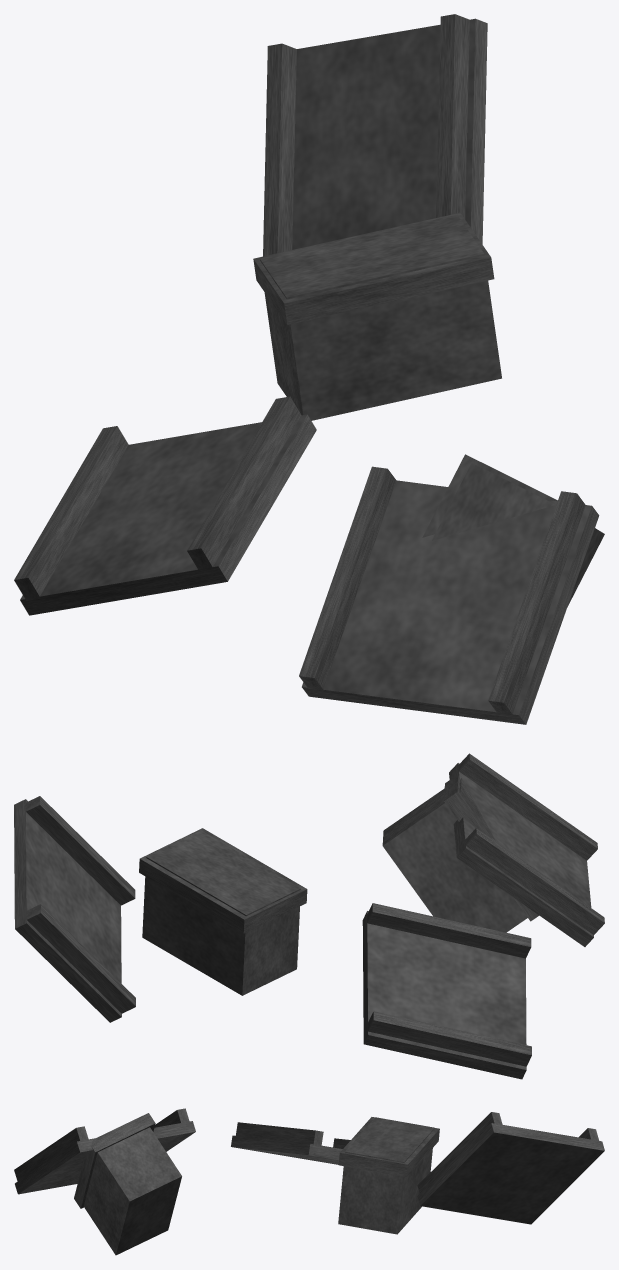
File: collapsed bridge.obj
The picture shows the model from 3 angles, top to bottom: view 1: azimuth 30°, elevation 25°; view 2: azimuth 150°, elevation 25°; view 3: azimuth 270°, elevation 25°; orthographic projection. The views are drawn at different scales.
Visible parts, largest first — view 1: collapsed_bridge; view 2: collapsed_bridge; view 3: collapsed_bridge.
Boxes of the visible parts, x1=… form: collapsed_bridge: x1=14, y1=14, x2=604, y2=724; collapsed_bridge: x1=14, y1=753, x2=604, y2=1079; collapsed_bridge: x1=14, y1=1108, x2=604, y2=1255.
Bounding box in the file's own units: 102 × 62.9 × 153.
1 material, 1 textured.
